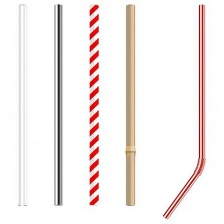drinking_straw: (157, 1, 213, 222), (83, 1, 104, 211), (47, 2, 67, 210), (121, 1, 140, 211), (14, 1, 33, 211)
